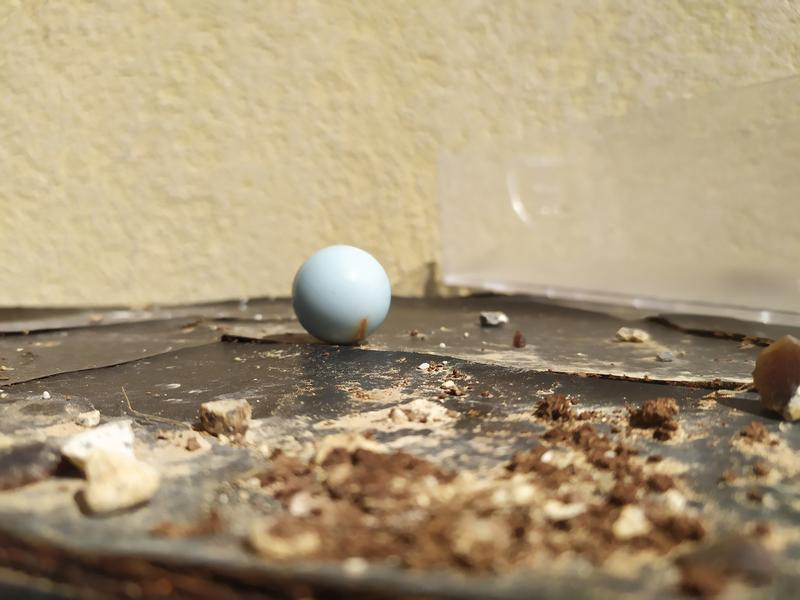Warning: (289, 243, 395, 347)
